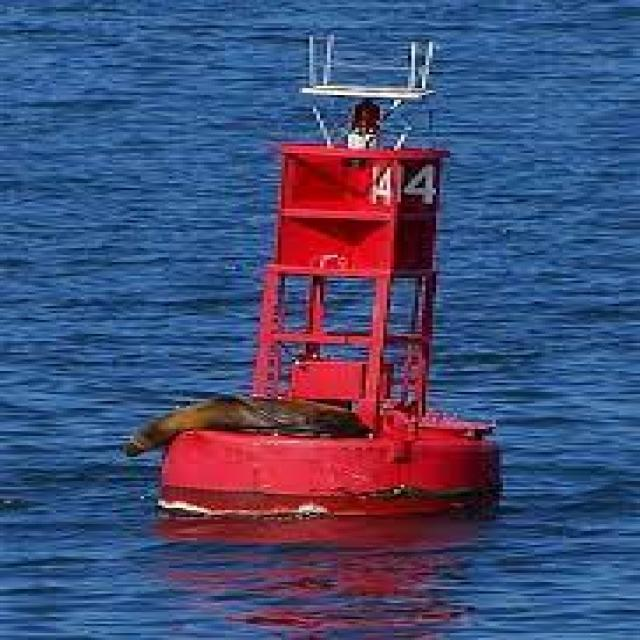buoy: (82, 5, 544, 558)
